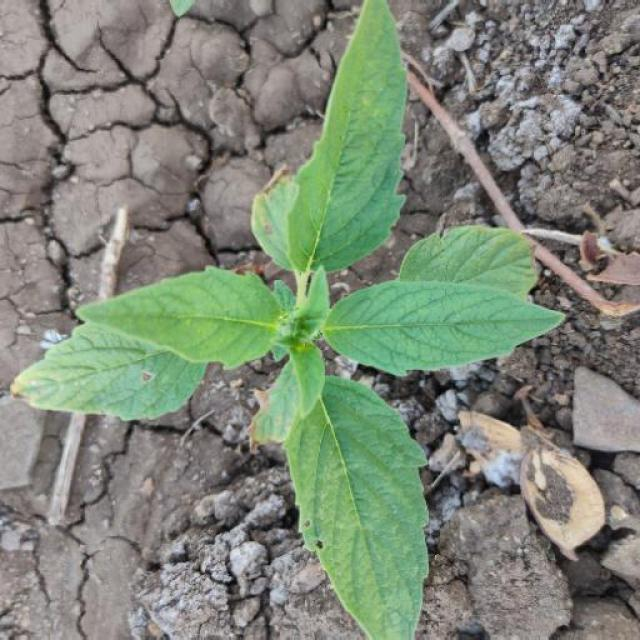crop: (19, 10, 572, 640)
